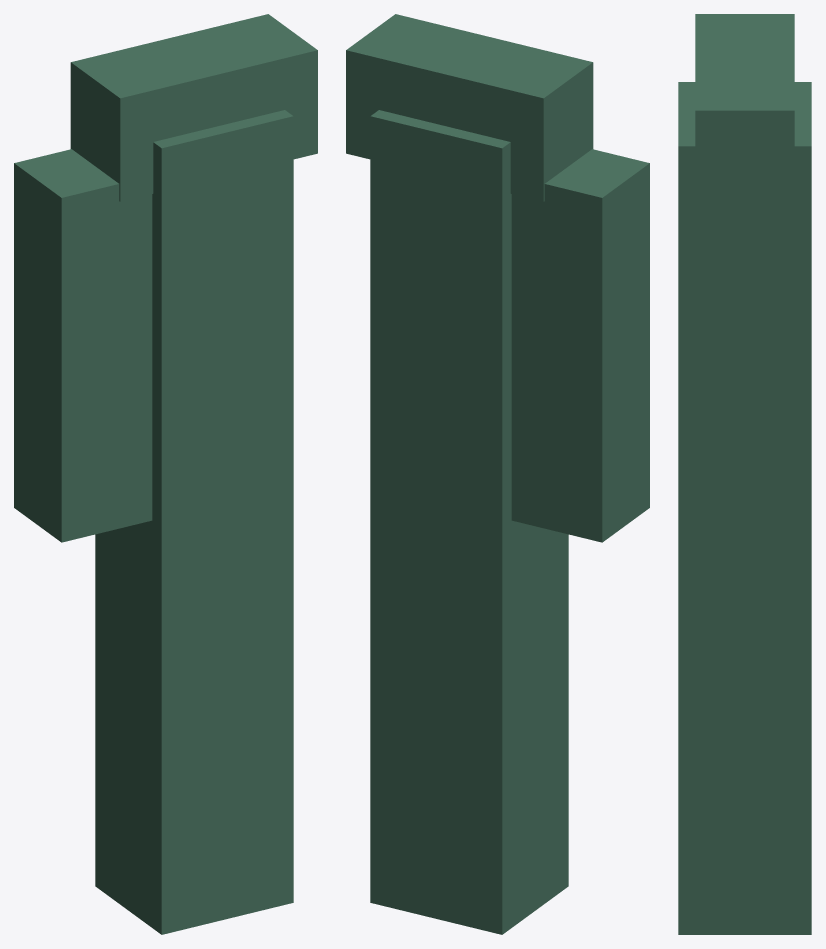
The model's file is sorter_chain_lug.glb.
The picture shows the model from 3 angles, left to right: view 1: azimuth 30°, elevation 25°; view 2: azimuth 150°, elevation 25°; view 3: azimuth 270°, elevation 25°; orthographic projection.
Visible parts, largest first — view 1: sorter_chain_lug; view 2: sorter_chain_lug; view 3: sorter_chain_lug.
Part boxes in pixels (x1,y1,x2,y2): sorter_chain_lug: (14,14,317,934); sorter_chain_lug: (346,14,649,934); sorter_chain_lug: (678,14,811,934).
Size of the model in its own units: 0.155 by 0.4864 by 0.07.
